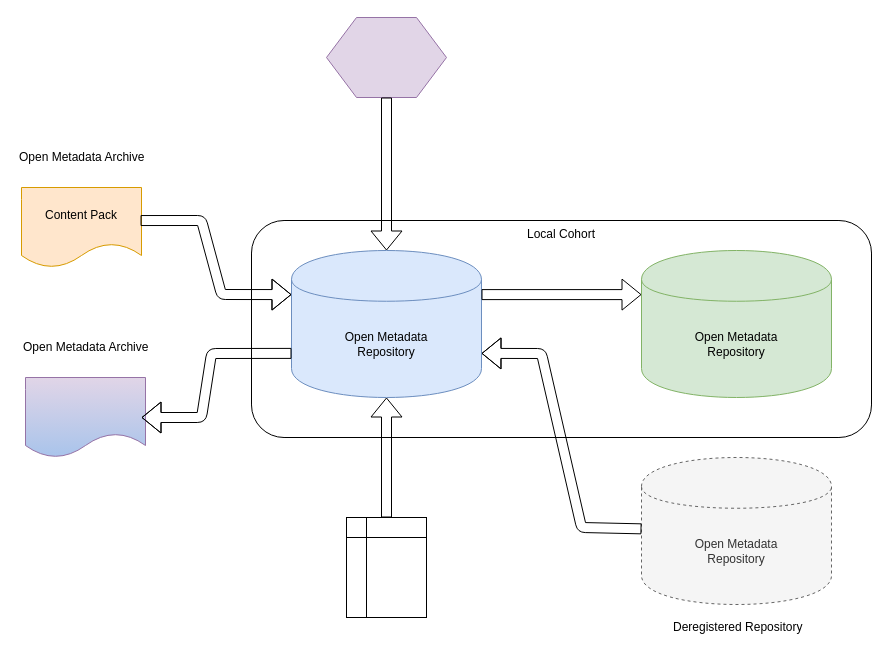
Some shapes in this 889 by 655 pixel diagram are drawn without their labels. The shapes that lost their labels are listed below. From the top down, each one's centre as x and y in pixels, then its label:
At (x=386, y=57): "External Source".
At (x=85, y=417): "Metadata Export".
At (x=386, y=567): "Config Document".
